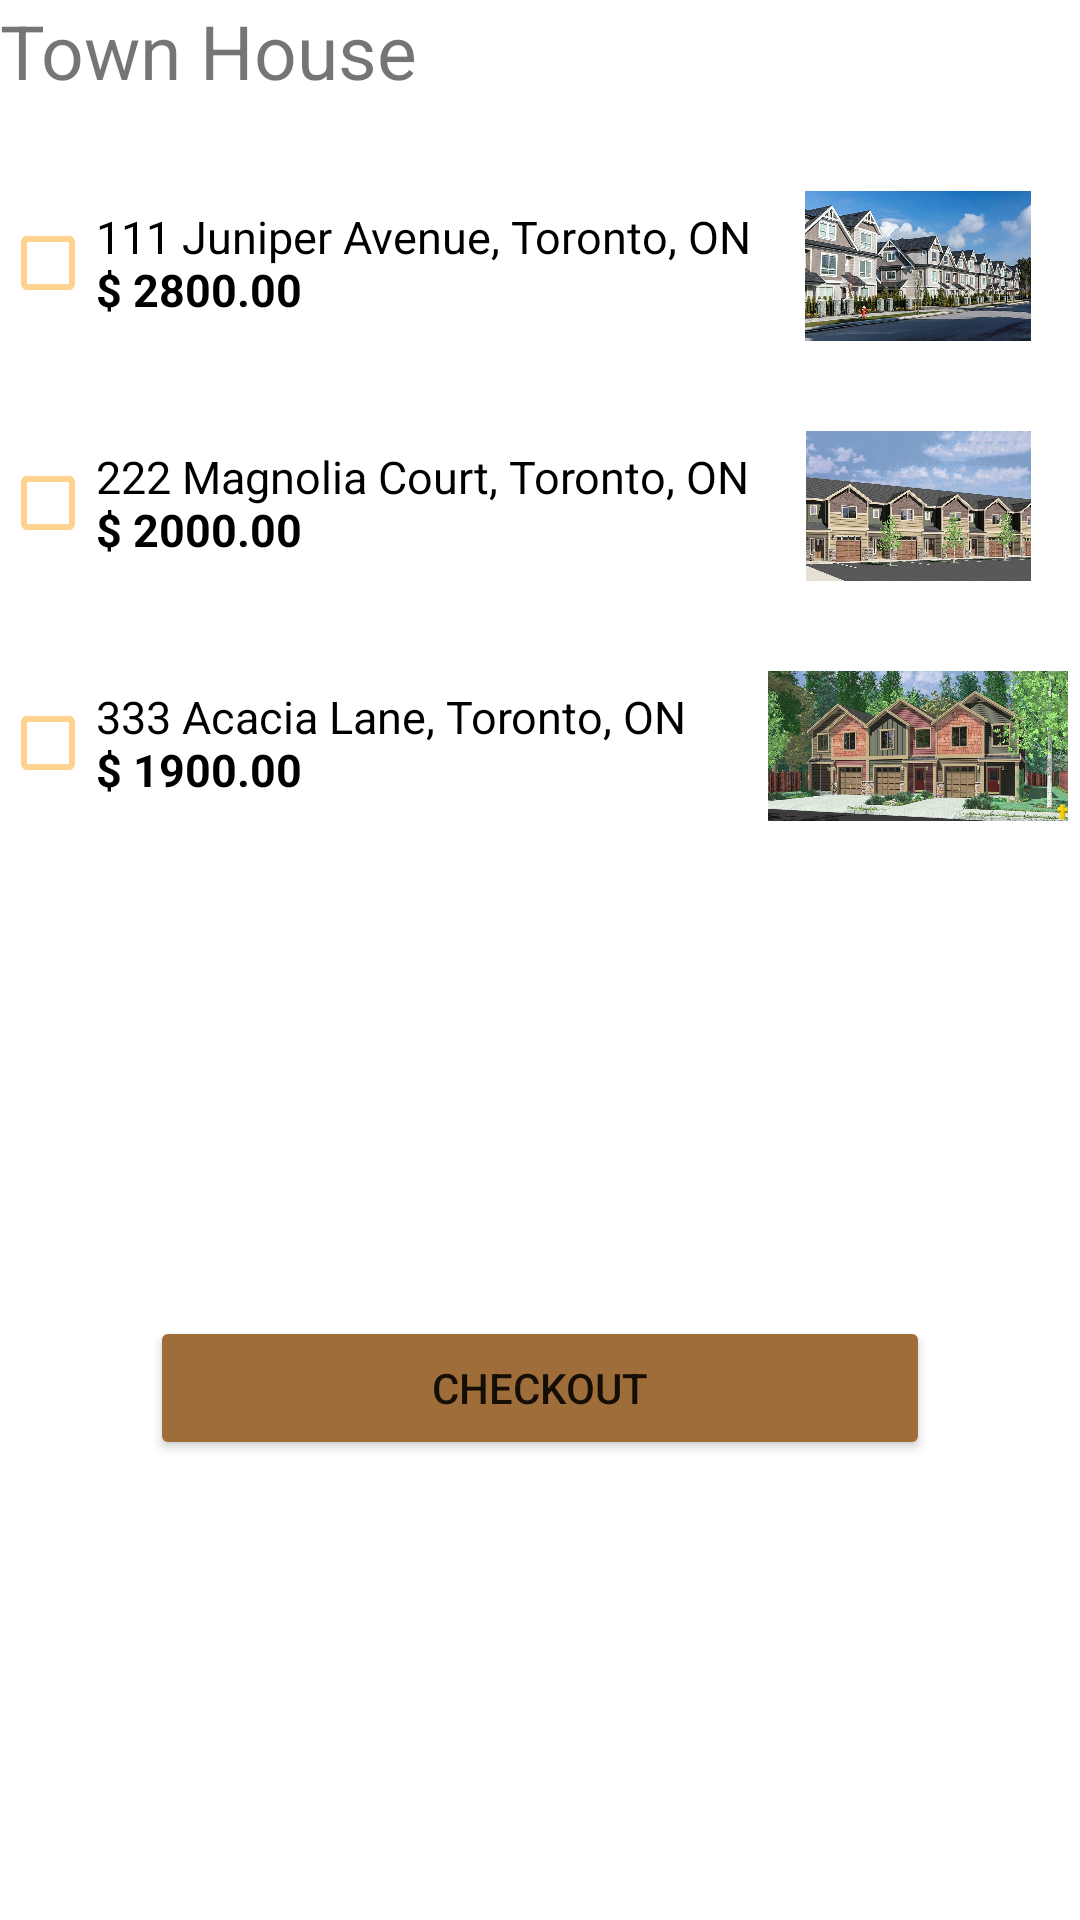

Icons on this 1080px×1920px Android screen, each with the point to tap as point (x, y):
town house one: point (918, 266)
town house three: point (918, 746)
town house two: point (918, 506)
